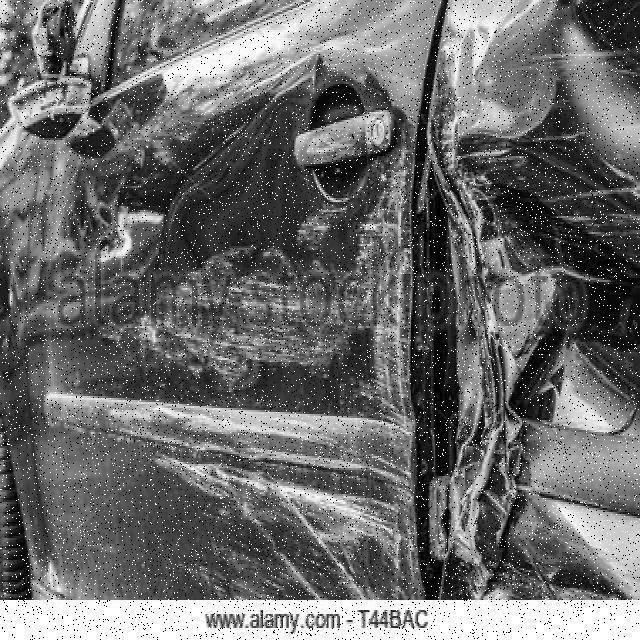doorouter-dent: (61, 86, 428, 608)
